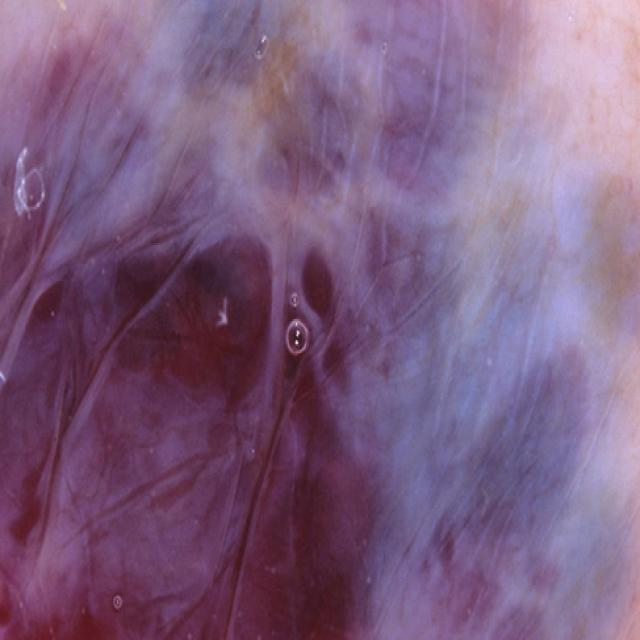Vascular Lesions: (0, 21, 640, 640)
